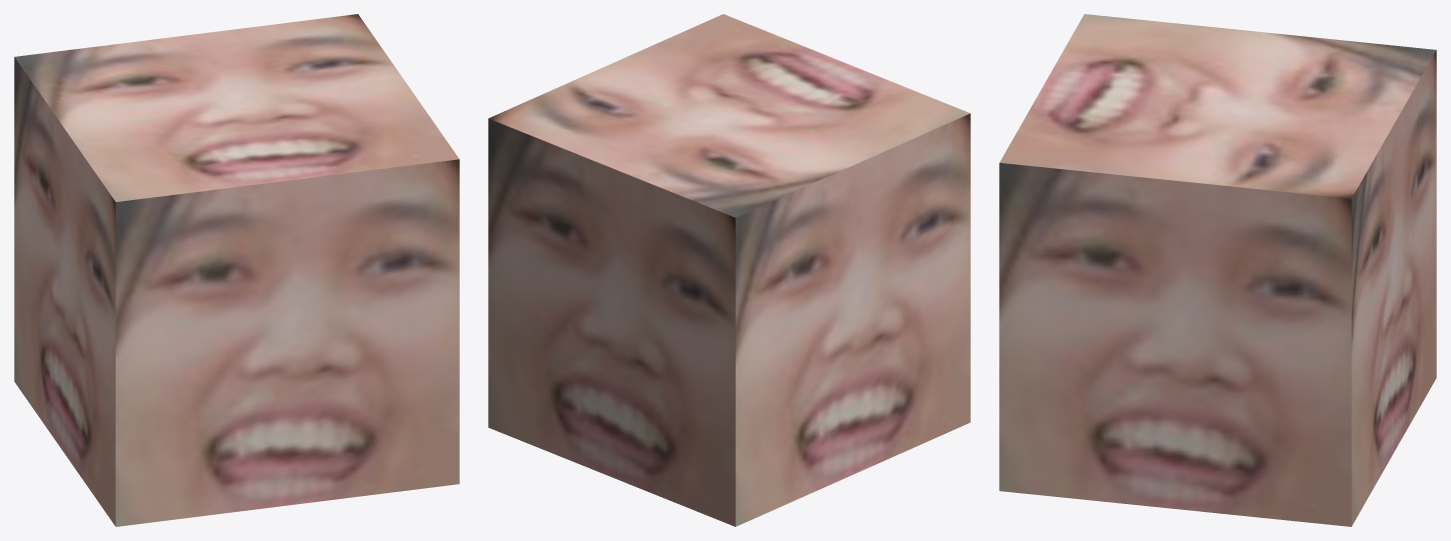
The model's file is SQ_Guy.fbx.
3 views of the same model, side by side, from view 1: azimuth 30°, elevation 25°; view 2: azimuth 150°, elevation 25°; view 3: azimuth 270°, elevation 25° (orthographic). The views are drawn at different scales.
Visible parts, largest first — view 1: pCube82; view 2: pCube82; view 3: pCube82.
Part boxes in pixels (x1,y1,x2,y2): pCube82: (14, 14, 459, 526); pCube82: (488, 14, 970, 526); pCube82: (999, 14, 1436, 526).
Bounding box in the file's own units: 1.18 × 0.9775 × 1.18.
1 material, 1 textured.
